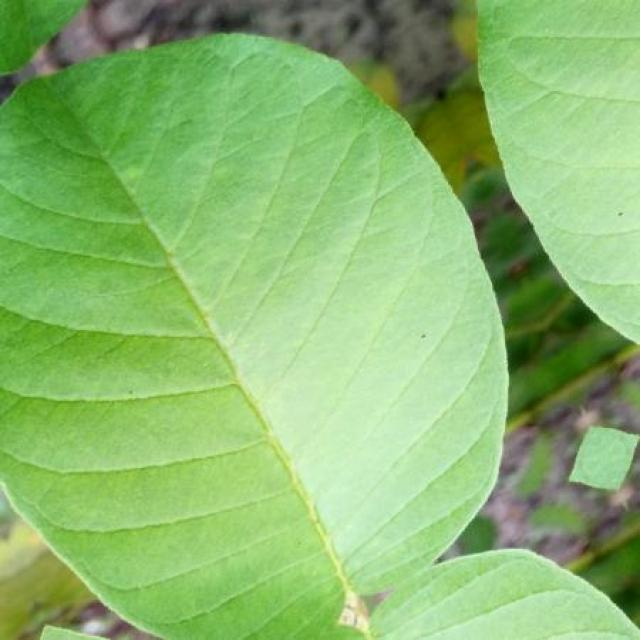Disease Free: (0, 35, 508, 640), (371, 550, 640, 640)
